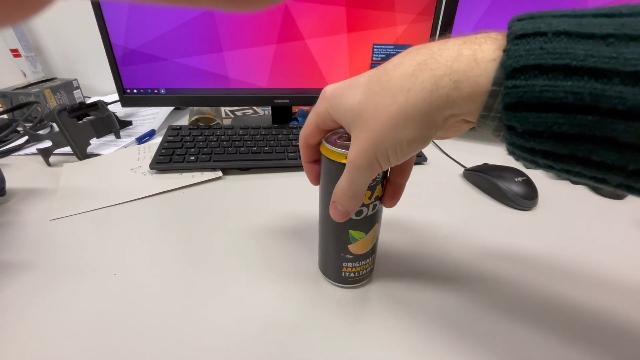OranSoda: (314, 124, 392, 290)
